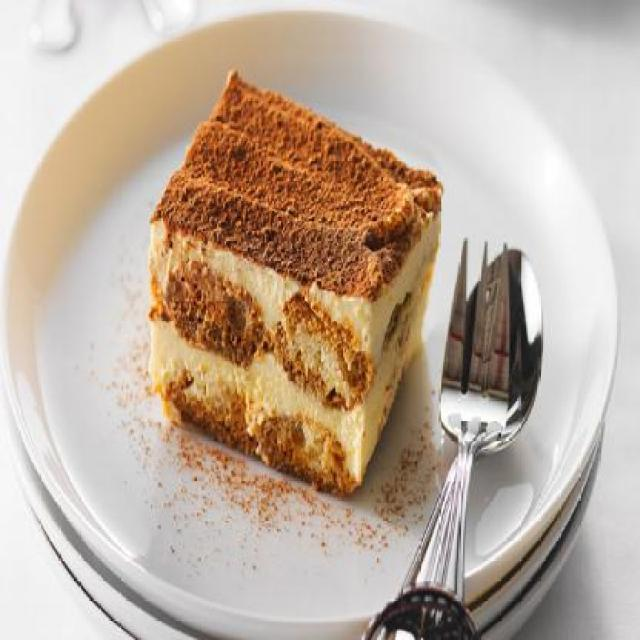Tiramisu: (146, 60, 437, 488)
